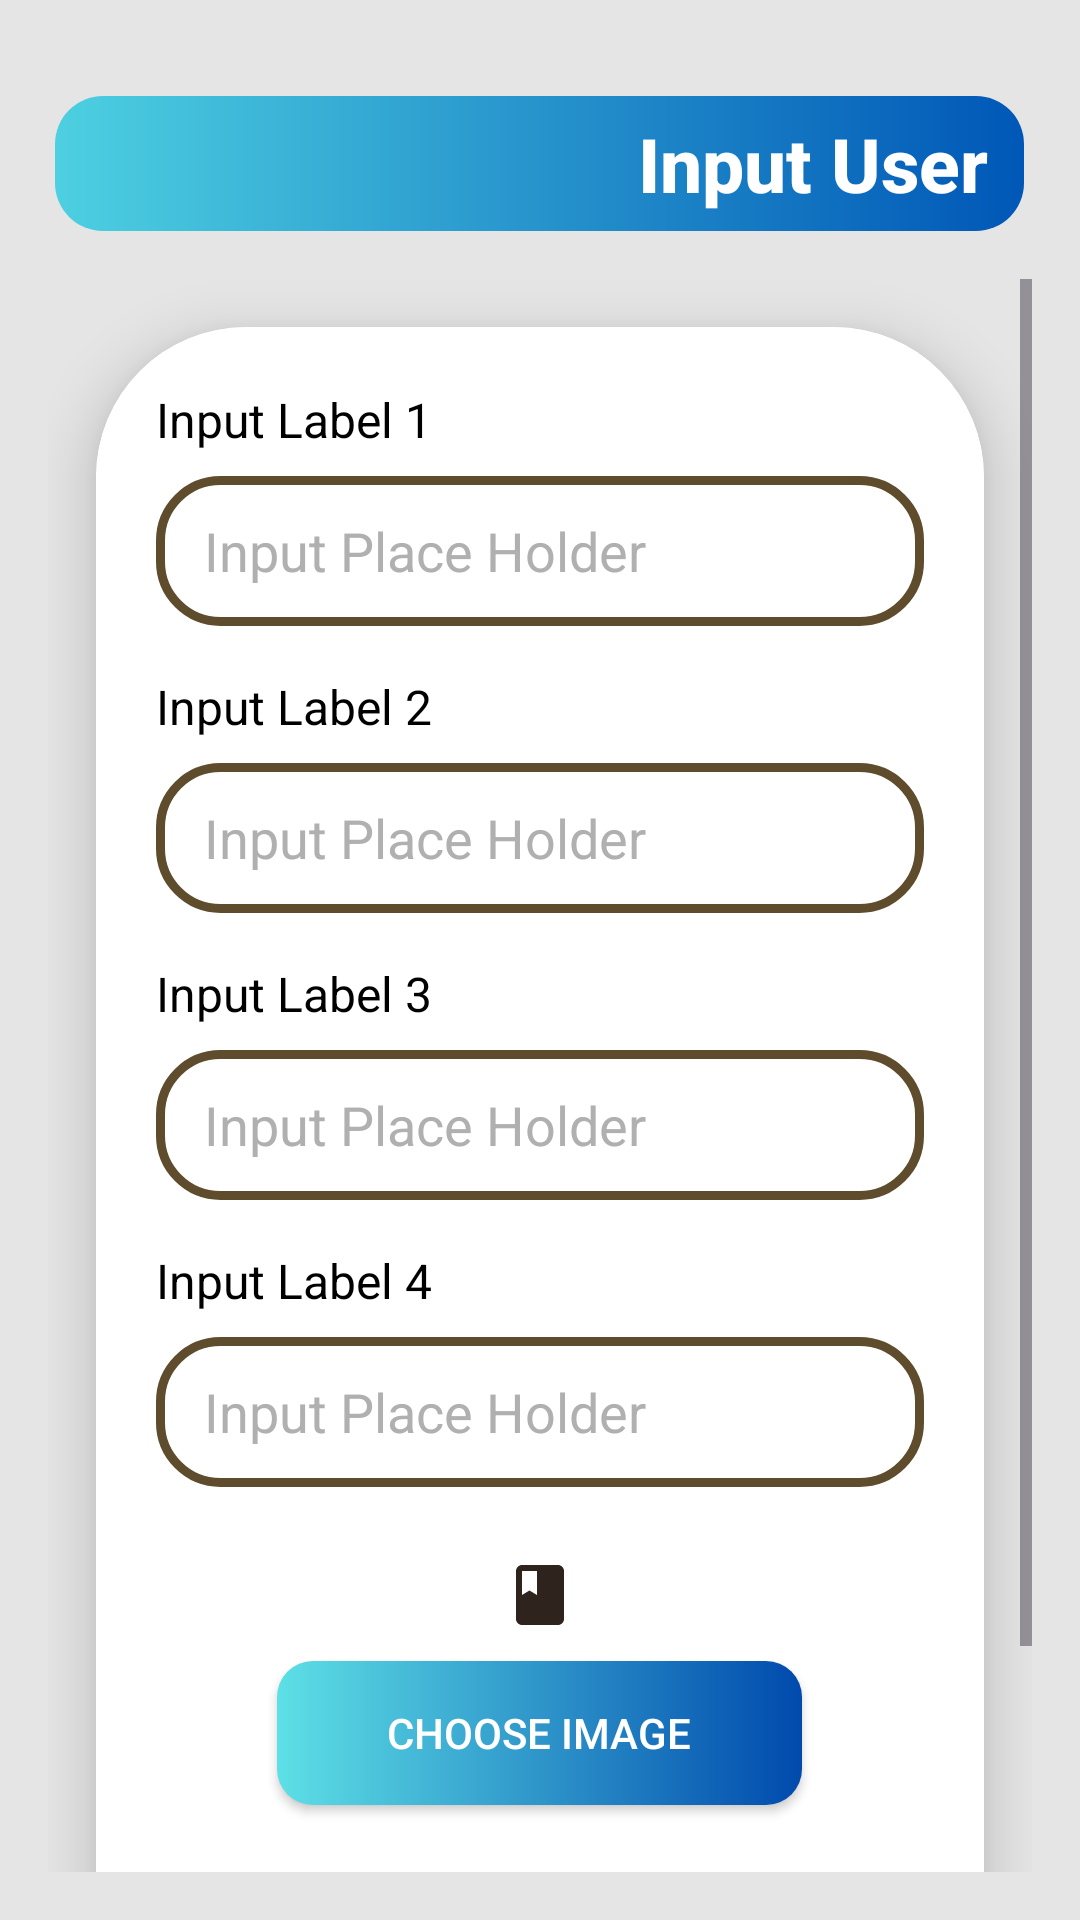

Icon click points for this 1080 × 1920 phone screenshot, format (x=x, y=y):
book: (x=540, y=1595)
